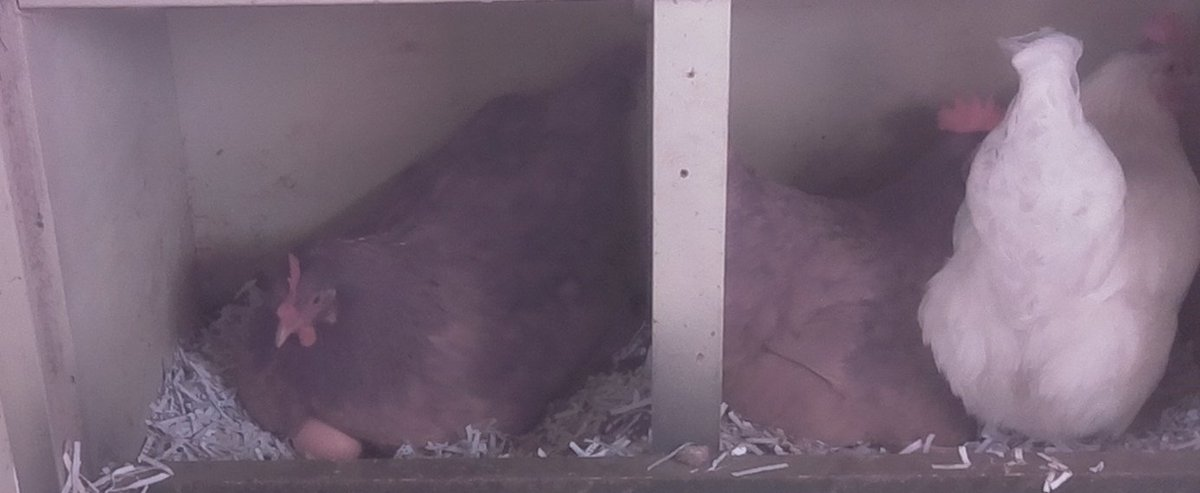egg: (205, 35, 649, 452), (282, 408, 370, 462)
hen: (910, 14, 1196, 441), (721, 87, 1009, 449)
